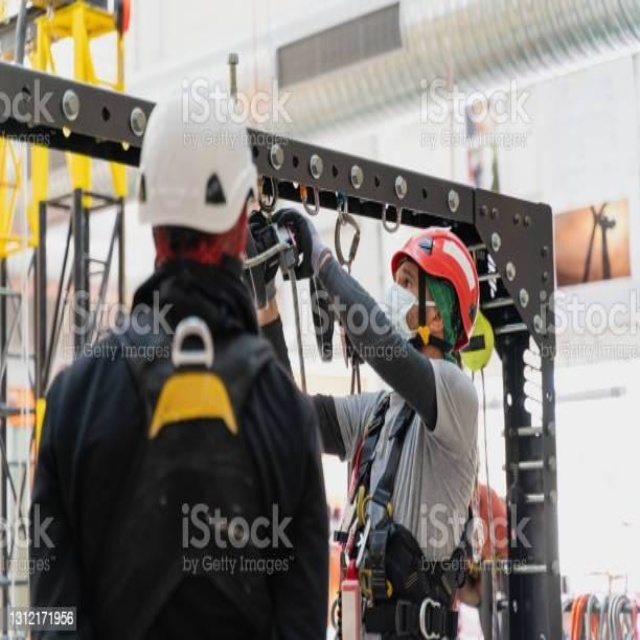Arnes_seguridad: (68, 277, 282, 640), (339, 360, 479, 640)
